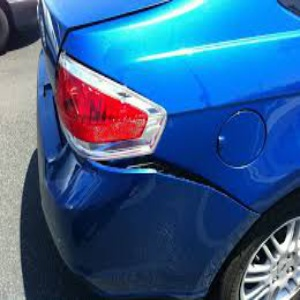bumper: (45, 164, 246, 300)
